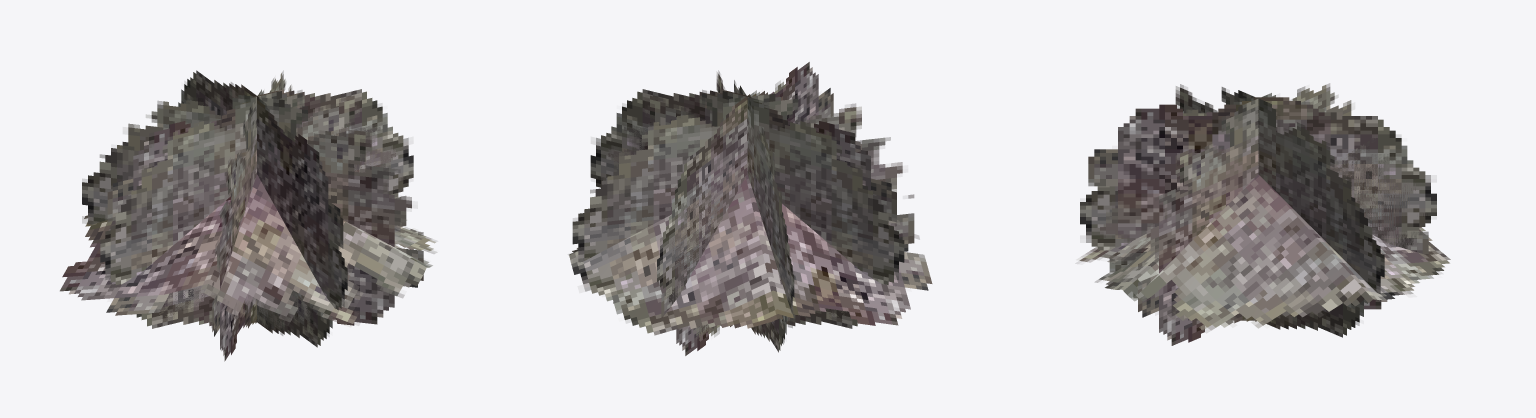
Rendered from Environment - Debris and Ruins - Rubble Mound - Debris - PMDsrtSlvr.glb.
The picture shows the model from 3 angles, left to right: view 1: azimuth 30°, elevation 25°; view 2: azimuth 150°, elevation 25°; view 3: azimuth 270°, elevation 25°; orthographic projection.
Parts seen in each view (by area): view 1: PMDSRTSLVR; view 2: PMDSRTSLVR; view 3: PMDSRTSLVR.
Boxes of the visible parts, x1,y1,x2,y2 form: PMDSRTSLVR: [60, 70, 436, 361]; PMDSRTSLVR: [568, 62, 932, 355]; PMDSRTSLVR: [1076, 83, 1450, 345].
Size of the model in its own units: 12.32 by 5.98 by 12.32.
Materials: 1 (1 with a texture image).
